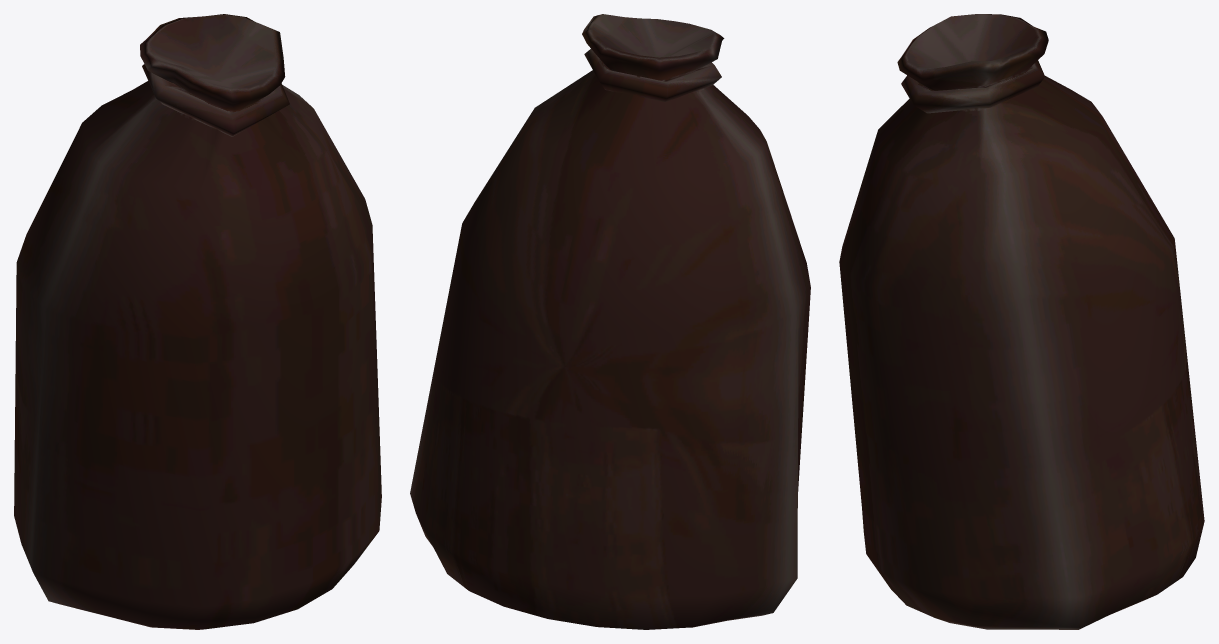
File: Closed_Sack.fbx
3 renders of one model, left to right at view 1: azimuth 30°, elevation 25°; view 2: azimuth 150°, elevation 25°; view 3: azimuth 270°, elevation 25°, orthographic. The views are drawn at different scales.
Visible parts, largest first — view 1: node_id4; view 2: node_id4; view 3: node_id4.
Part boxes in pixels (x1,y1,x2,y2): node_id4: (14,14,381,629); node_id4: (410,14,810,629); node_id4: (839,14,1204,629).
Size of the model in its own units: 0.3522 by 0.5246 by 0.3186.
Materials: 1 (1 with a texture image).
